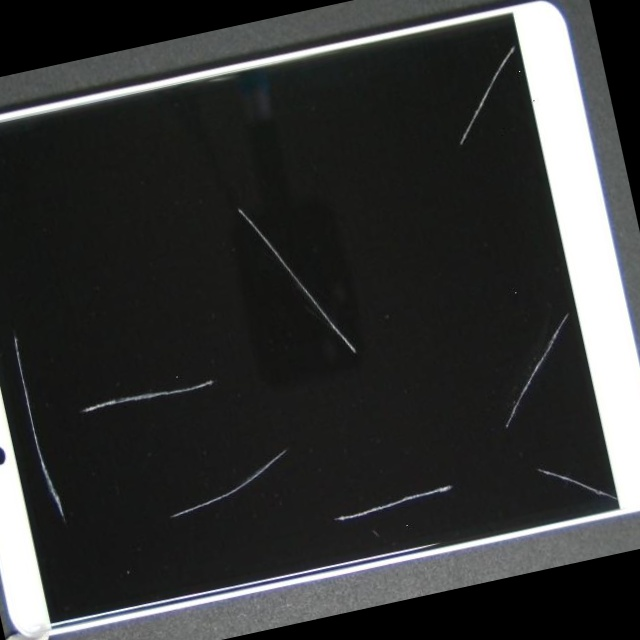scratch: (199, 166, 640, 627), (106, 251, 512, 640), (151, 5, 629, 277), (0, 240, 199, 634)
